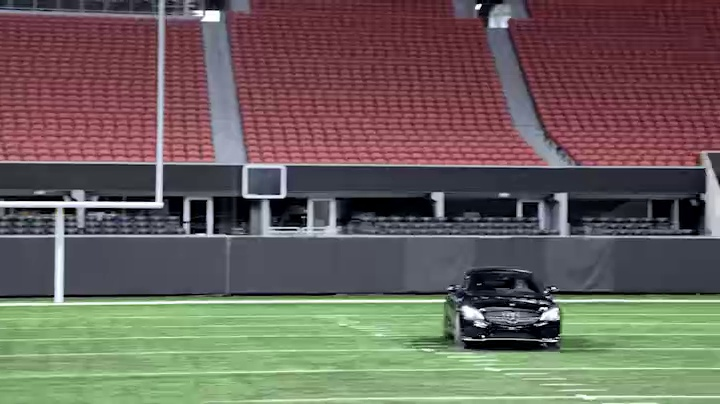amg: (440, 265, 566, 351)
